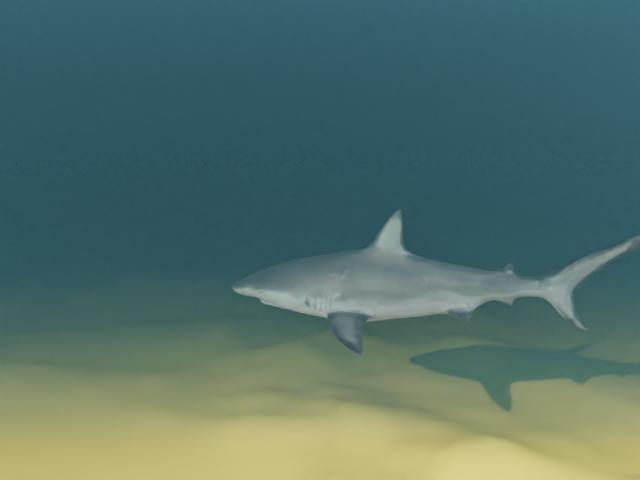Carribean Shark.001: (232, 209, 640, 355)
